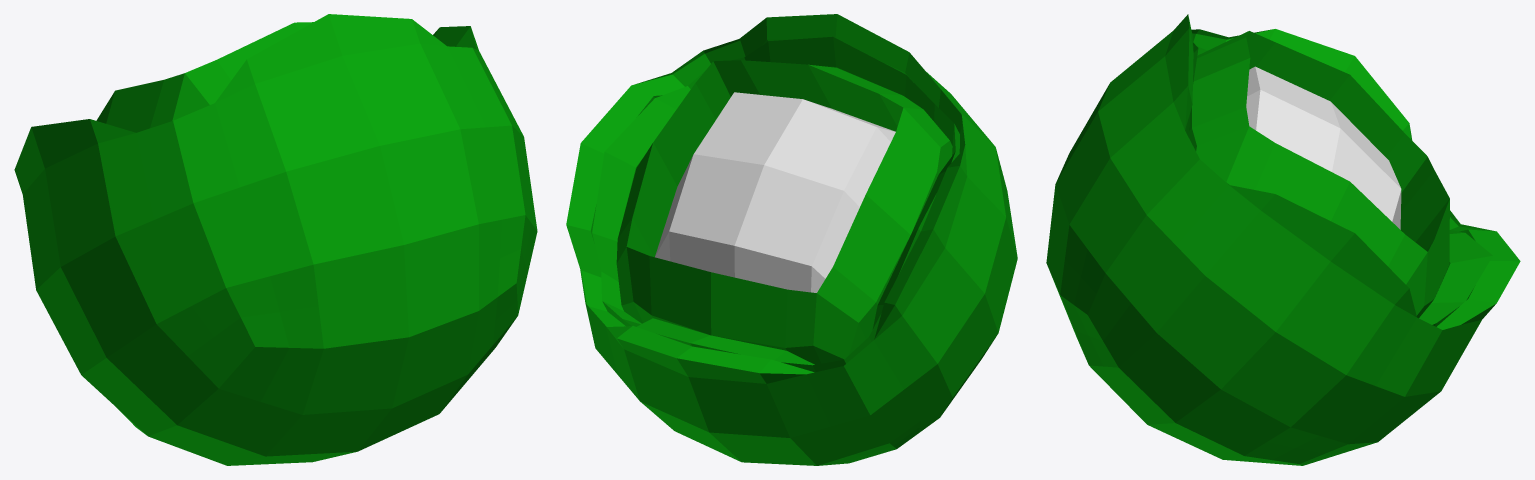
Rendered from cabbage.fbx.
3 views of the same model, side by side, from view 1: azimuth 30°, elevation 25°; view 2: azimuth 150°, elevation 25°; view 3: azimuth 270°, elevation 25° (orthographic). The views are drawn at different scales.
Parts seen in each view (by area): view 1: Cube; view 2: Cube; view 3: Cube.
Part boxes in pixels (box(x1,y1,x2,y2)): Cube: box(14, 14, 537, 465); Cube: box(566, 14, 1017, 465); Cube: box(1046, 14, 1520, 465).
Size of the model in its own units: 168 by 172 by 177.
